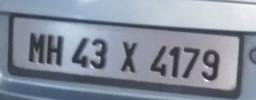1: (170, 44, 180, 80)
3: (90, 38, 109, 70)
4: (148, 44, 168, 75), (70, 36, 89, 68)
7: (183, 44, 202, 81)
9: (204, 48, 224, 85)
H: (47, 33, 63, 67)
M: (25, 30, 45, 67)
X: (117, 37, 142, 78)
